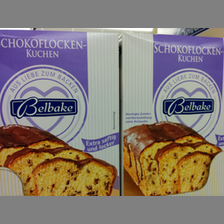cake: (1, 31, 120, 195), (122, 31, 224, 194)
